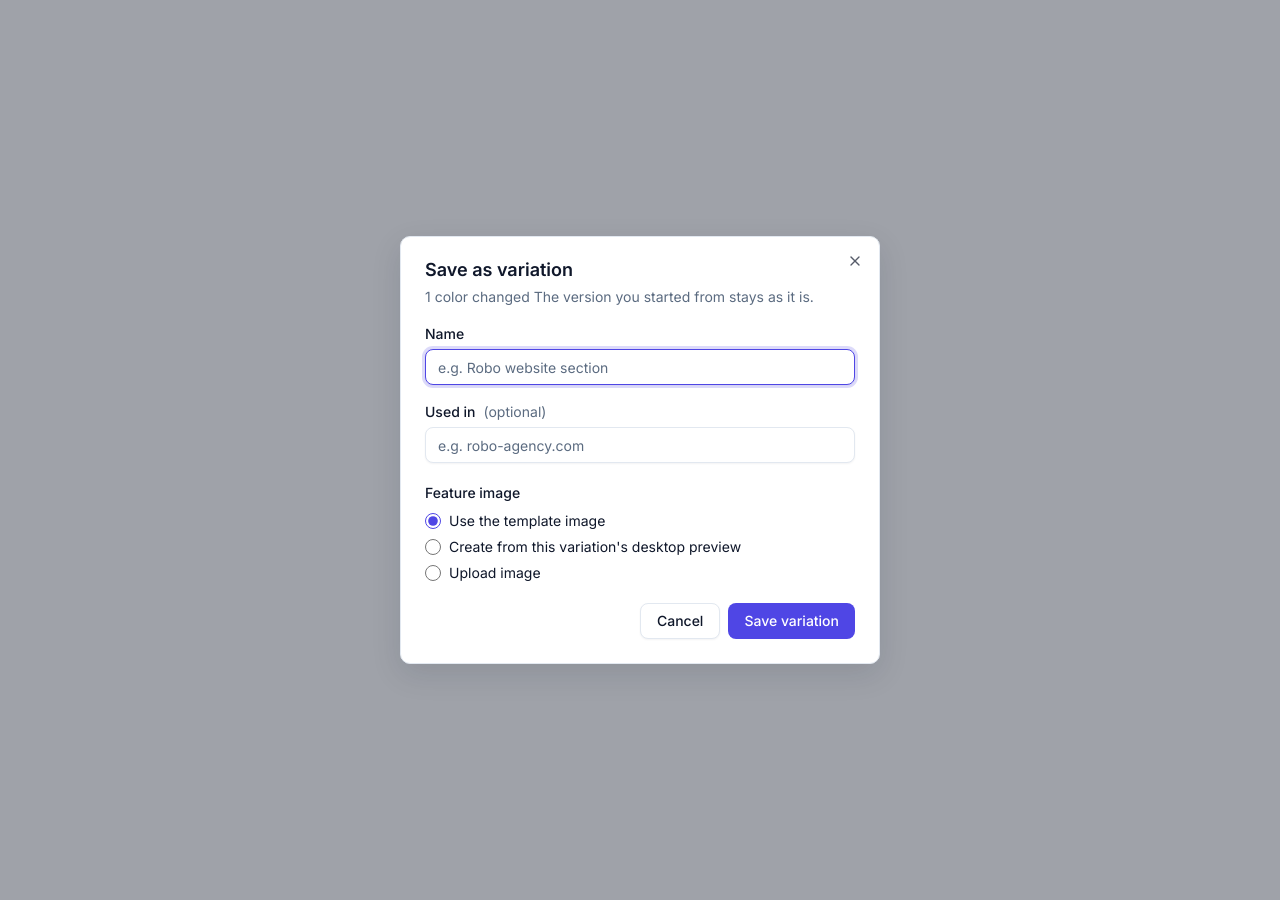
Test: SaveVariationDialog › shows a taken name inline next to the field
Type "Dup" into the field labelled "Name" at (640, 367), box x1=425 y1=349 x2=855 y2=385
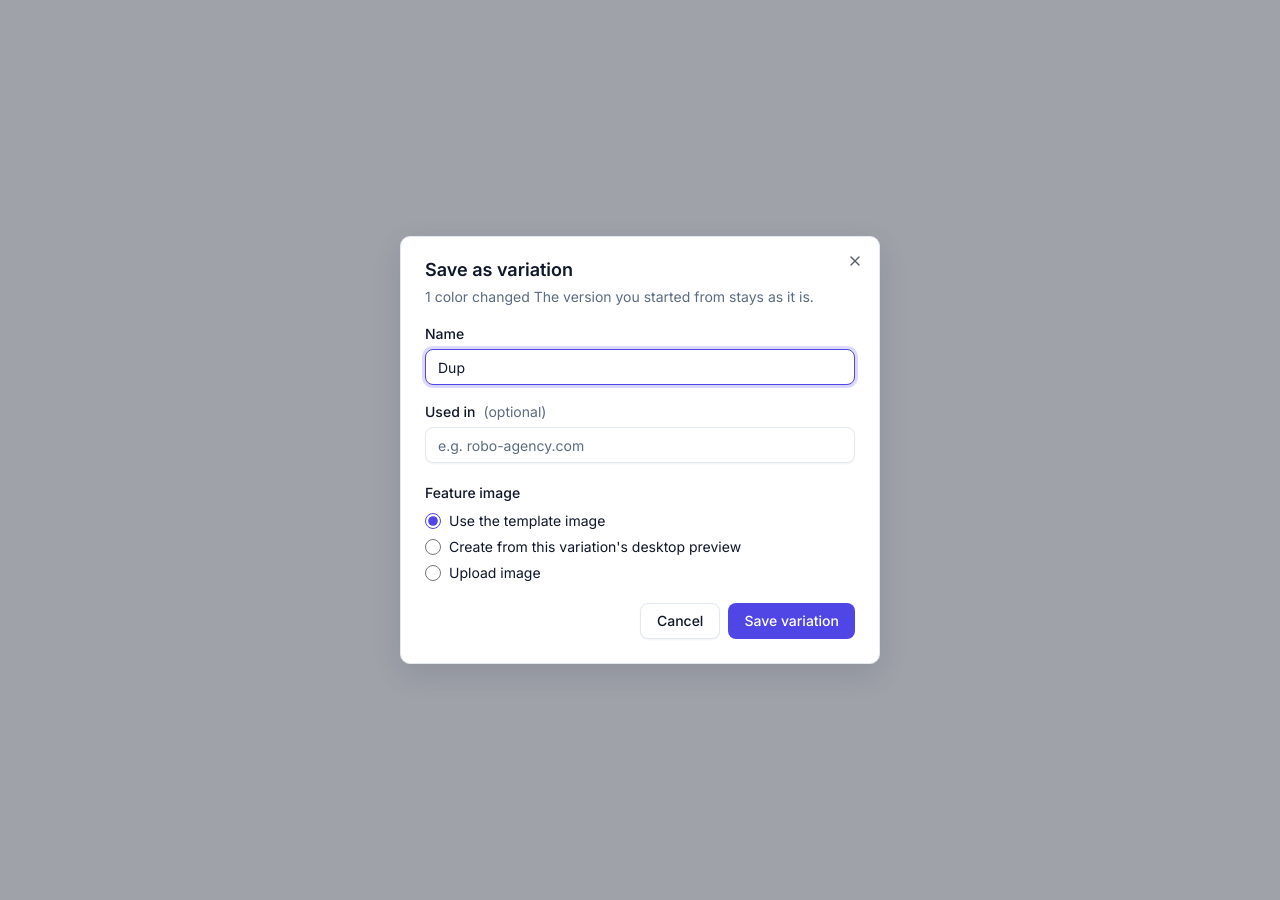
Click the button "Save variation" at (792, 621), box x1=728 y1=603 x2=855 y2=639
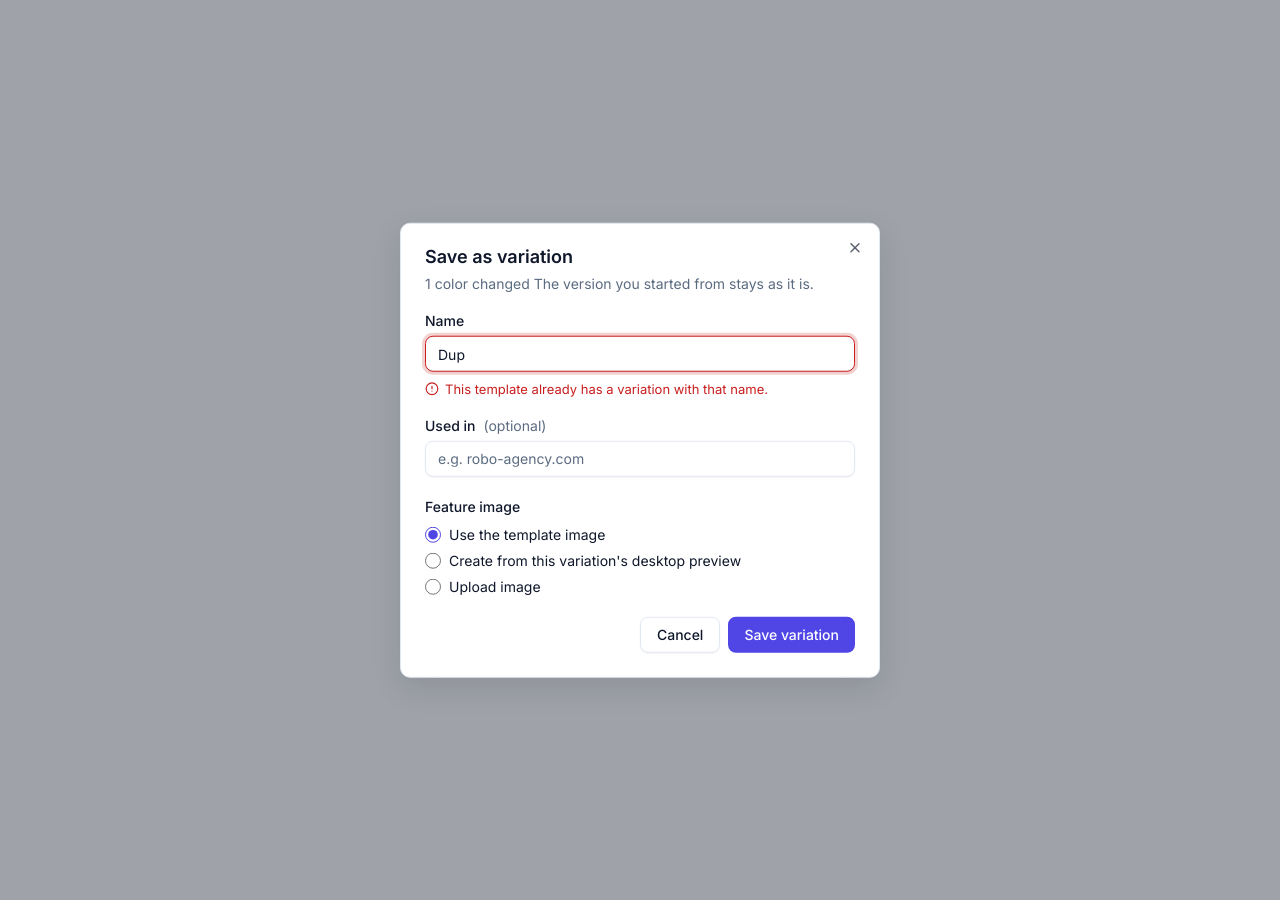
Expected: the message shows "already has a variation", x1=445 y1=381 x2=768 y2=397
